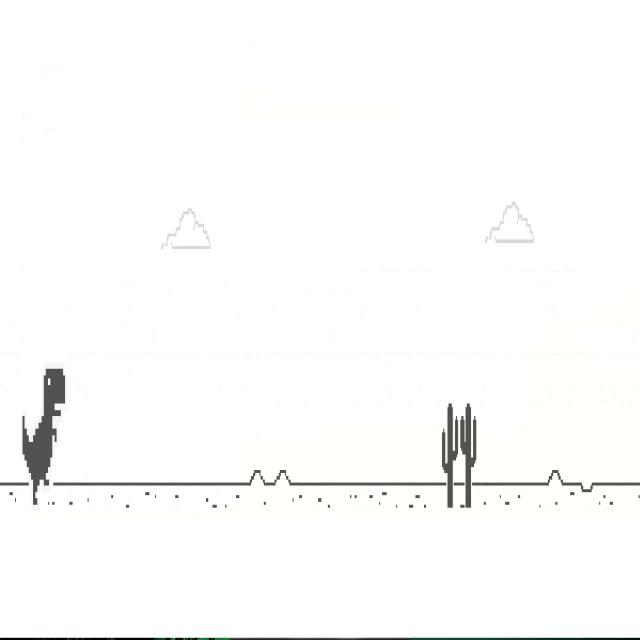cacto: (460, 402, 477, 509), (442, 402, 458, 509)
dino: (21, 366, 66, 506)
